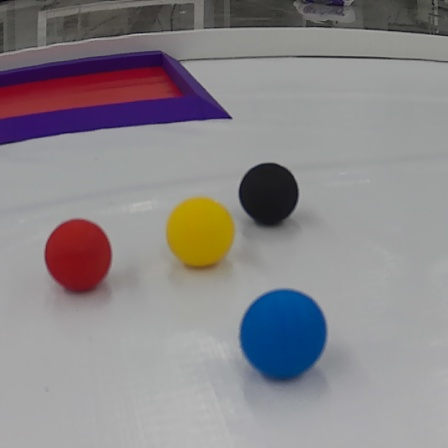black: (232, 163, 310, 229)
blue: (237, 286, 332, 385)
red: (45, 217, 114, 293)
red_aim: (0, 48, 233, 151)
yellow: (165, 194, 236, 271)
